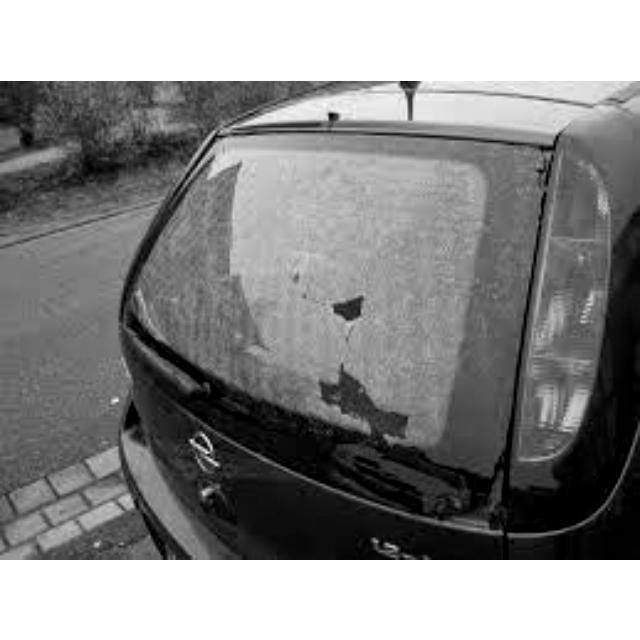Rear-windscreen-Damage: (92, 110, 568, 438)
